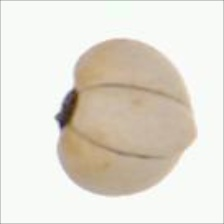L5: (71, 82, 201, 163), (54, 82, 81, 134)
L6: (52, 36, 202, 199)
